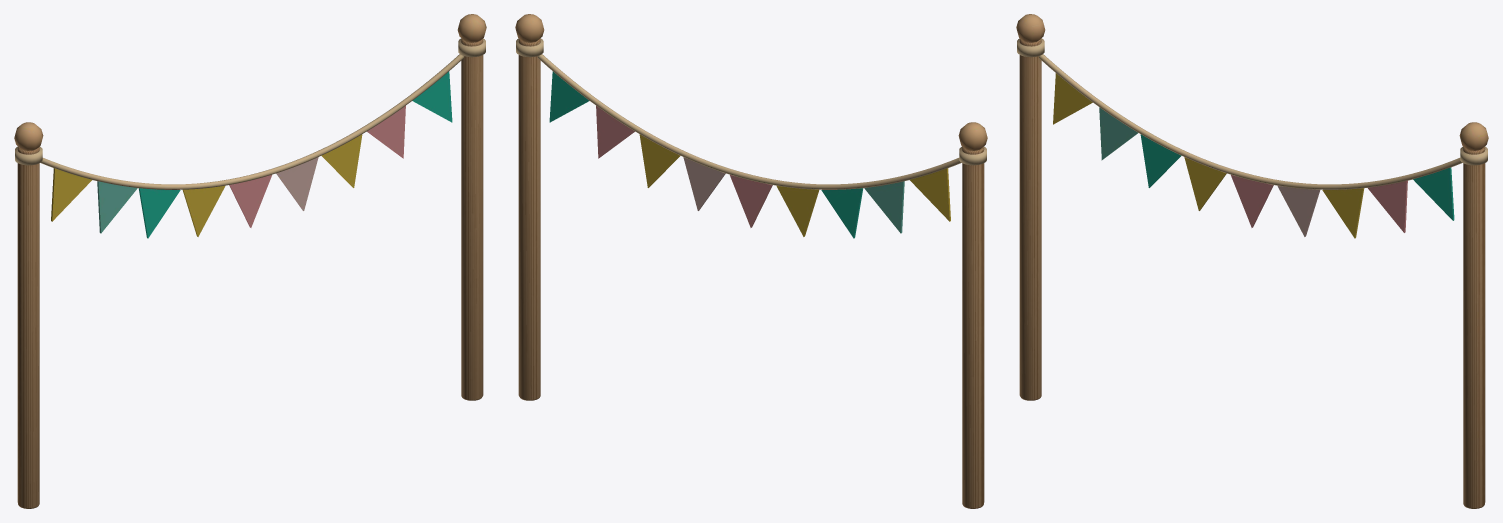
File: banner_line_1_high.glb
The picture shows the model from 3 angles, left to right: view 1: azimuth 30°, elevation 25°; view 2: azimuth 150°, elevation 25°; view 3: azimuth 330°, elevation 25°; orthographic projection.
Visible parts, largest first — view 1: banner_line_1; view 2: banner_line_1; view 3: banner_line_1.
Boxes of the visible parts, left/top/right/bottom form: banner_line_1: left=14, top=14, right=486, bottom=508; banner_line_1: left=515, top=14, right=987, bottom=508; banner_line_1: left=1016, top=14, right=1488, bottom=508.
Bounding box in the file's own units: 2.54 × 1.98 × 0.14.
1 material, 1 textured.
